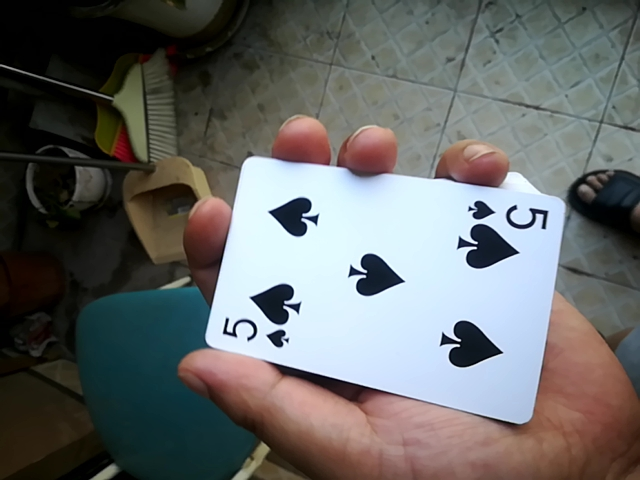ht 5: (195, 148, 566, 425)
